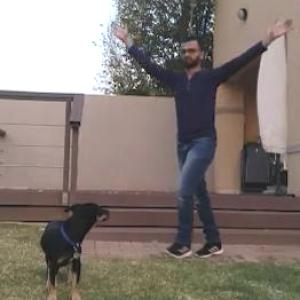takeoff: (120, 22, 299, 267)
